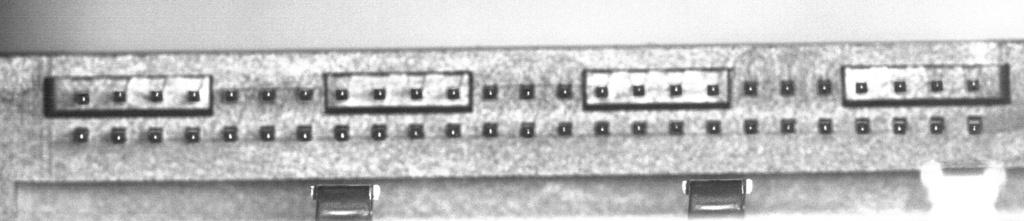pin_ok: (967, 115, 983, 134), (929, 116, 945, 134), (146, 127, 163, 143), (72, 127, 89, 143), (892, 117, 908, 134), (333, 124, 350, 140), (855, 117, 871, 134), (371, 124, 387, 140), (408, 123, 424, 139), (259, 125, 275, 141), (743, 118, 759, 134), (110, 127, 126, 143), (296, 125, 312, 141), (556, 82, 572, 98), (520, 121, 536, 137), (519, 83, 535, 99), (482, 122, 498, 137), (445, 123, 461, 138), (184, 127, 200, 142), (742, 81, 758, 96), (482, 84, 498, 99), (706, 119, 722, 134), (780, 118, 796, 133), (222, 126, 238, 141), (780, 79, 795, 95), (818, 118, 833, 134), (817, 79, 832, 95), (297, 87, 314, 101), (594, 121, 610, 135), (557, 122, 572, 136), (669, 120, 684, 134), (631, 121, 646, 135), (446, 86, 461, 100), (74, 92, 90, 105), (223, 88, 239, 101), (259, 88, 275, 101), (148, 89, 163, 102), (334, 87, 349, 100), (893, 80, 907, 93), (930, 79, 944, 92), (967, 78, 981, 91), (372, 87, 386, 100), (706, 83, 720, 96), (594, 85, 608, 98), (631, 84, 646, 96), (669, 83, 682, 96), (187, 89, 200, 102), (855, 81, 868, 93), (112, 90, 125, 102), (410, 87, 423, 99)
